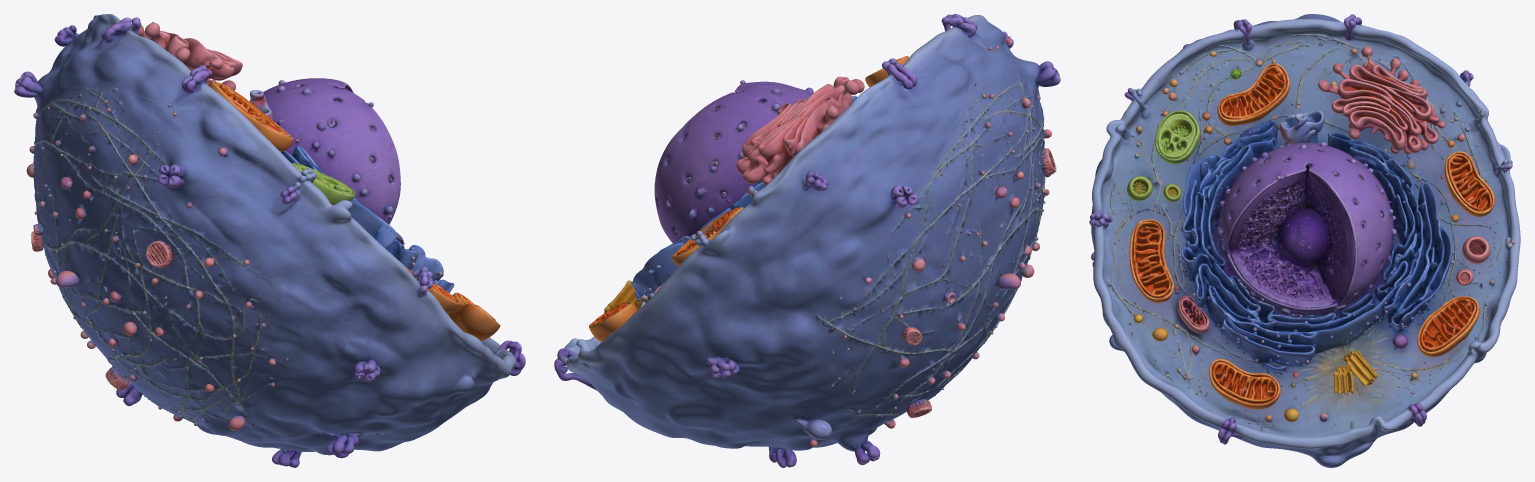
File: cell-scene.glb
3 views of the same model, side by side, from view 1: azimuth 30°, elevation 25°; view 2: azimuth 150°, elevation 25°; view 3: azimuth 270°, elevation 25° (orthographic). The views are drawn at different scales.
Visible parts, largest first — view 1: tripo_node_342abec0-ad0f-4bf6-a5d3-c3c8ef677a6a; view 2: tripo_node_342abec0-ad0f-4bf6-a5d3-c3c8ef677a6a; view 3: tripo_node_342abec0-ad0f-4bf6-a5d3-c3c8ef677a6a.
Part boxes in pixels (x1,y1,x2,y2): tripo_node_342abec0-ad0f-4bf6-a5d3-c3c8ef677a6a: (14, 14, 525, 467); tripo_node_342abec0-ad0f-4bf6-a5d3-c3c8ef677a6a: (554, 14, 1060, 467); tripo_node_342abec0-ad0f-4bf6-a5d3-c3c8ef677a6a: (1089, 14, 1520, 467).
Size of the model in its own units: 0.8979 by 0.8787 by 0.9801.
Materials: 1 (1 with a texture image).
